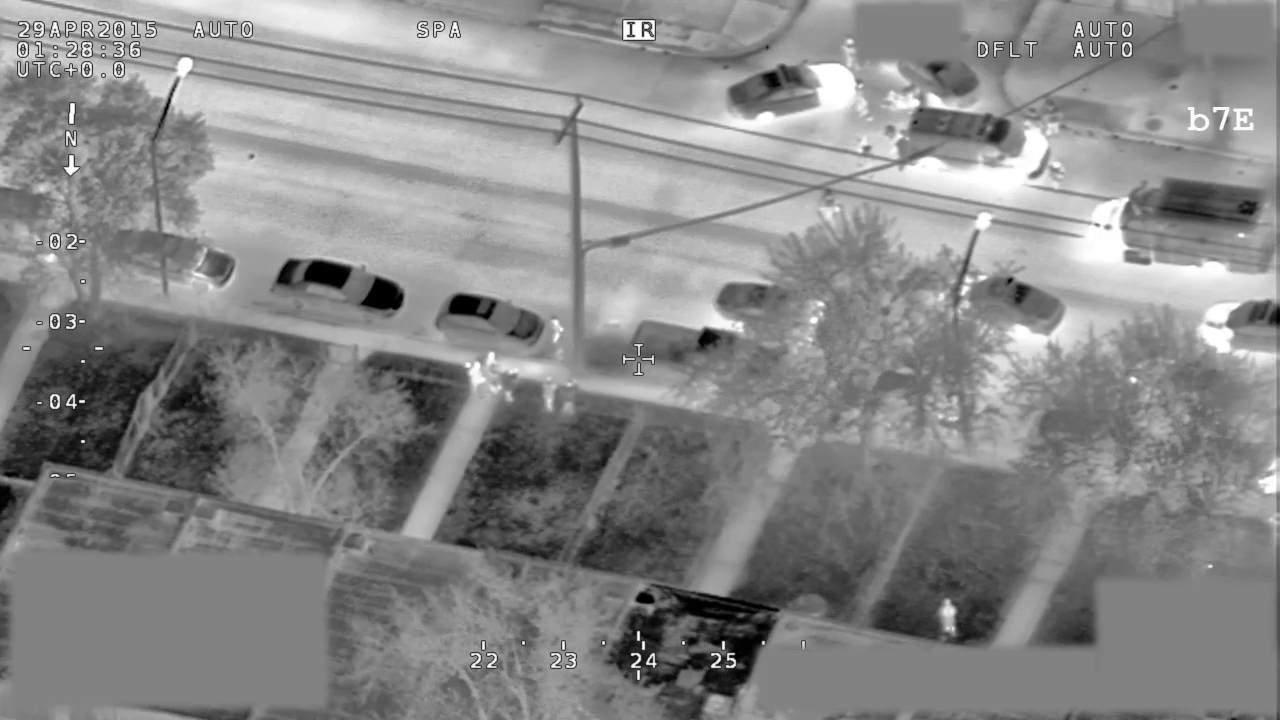vehicle: (1083, 170, 1280, 278), (623, 319, 780, 397), (267, 250, 405, 325), (898, 115, 1060, 177), (104, 224, 241, 297), (726, 57, 861, 130), (934, 271, 1069, 339), (709, 276, 836, 339), (430, 290, 547, 355), (1, 184, 88, 263), (1196, 296, 1280, 358), (890, 57, 984, 107)
